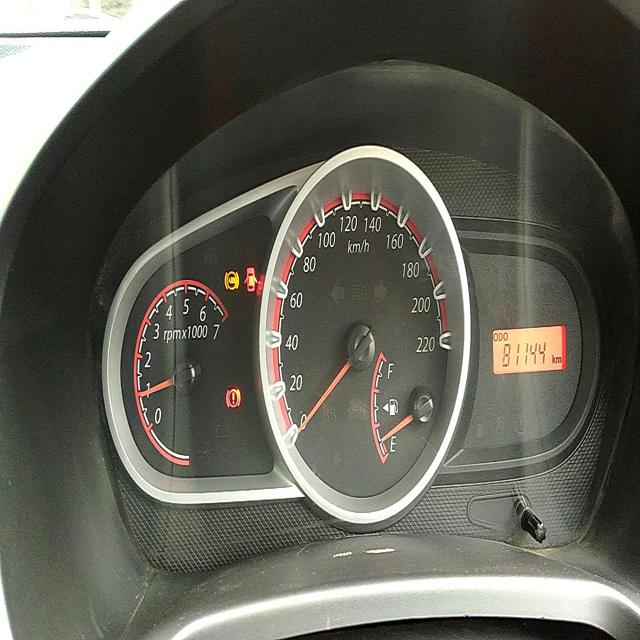odometer: (501, 338, 548, 369)
